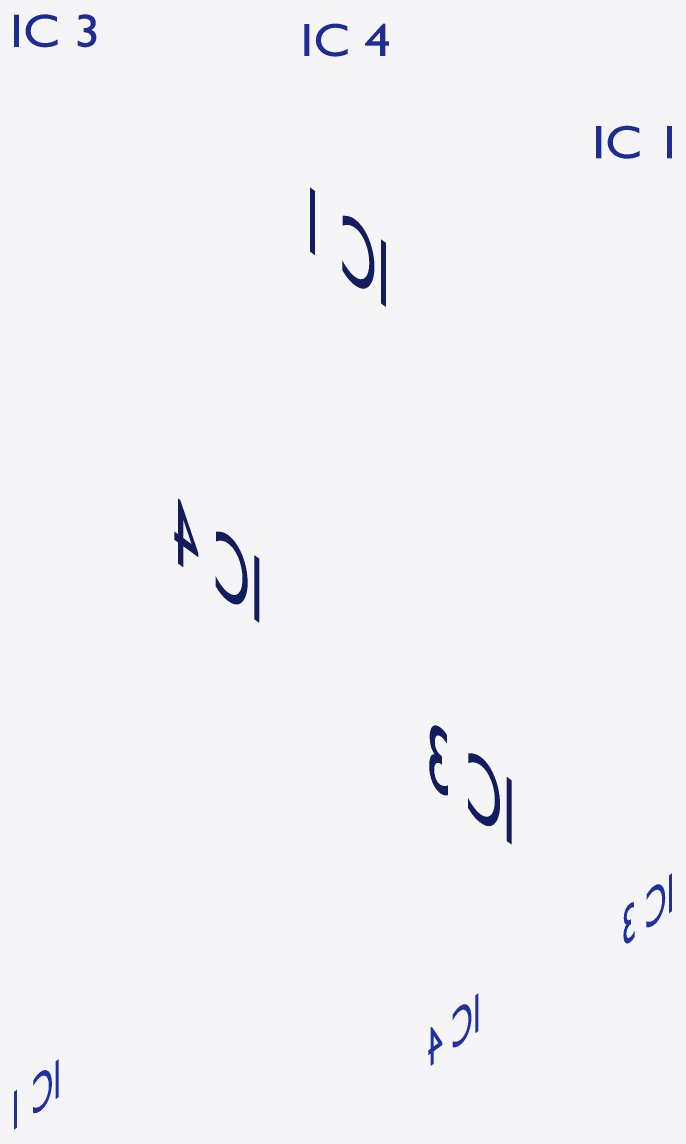
The model's file is InstitutoCiencias134.gltf.
3 renders of one model, top to bottom at view 1: azimuth 30°, elevation 25°; view 2: azimuth 150°, elevation 25°; view 3: azimuth 270°, elevation 25°, orthographic. The views are drawn at different scales.
Parts seen in each view (by area): view 1: Text.010, Text.149, Text.011; view 2: Text.010, Text.149, Text.011; view 3: Text.010, Text.149, Text.011.
Boxes of the visible parts, x1=… form: Text.010: x1=304, y1=23, x2=388, y2=56; Text.149: x1=14, y1=14, x2=96, y2=47; Text.011: x1=596, y1=125, x2=671, y2=158; Text.010: x1=174, y1=498, x2=259, y2=622; Text.149: x1=429, y1=725, x2=511, y2=844; Text.011: x1=310, y1=187, x2=385, y2=306; Text.010: x1=428, y1=993, x2=478, y2=1065; Text.149: x1=623, y1=873, x2=671, y2=943; Text.011: x1=14, y1=1059, x2=58, y2=1129.
Size of the model in its own units: 2.66 by 0.2213 by 3.39.
